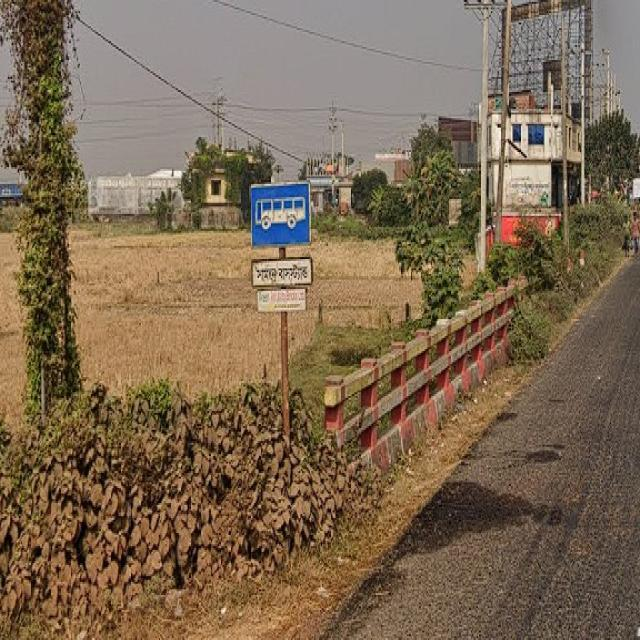Ahead-the-bus-station: (238, 163, 324, 318)
